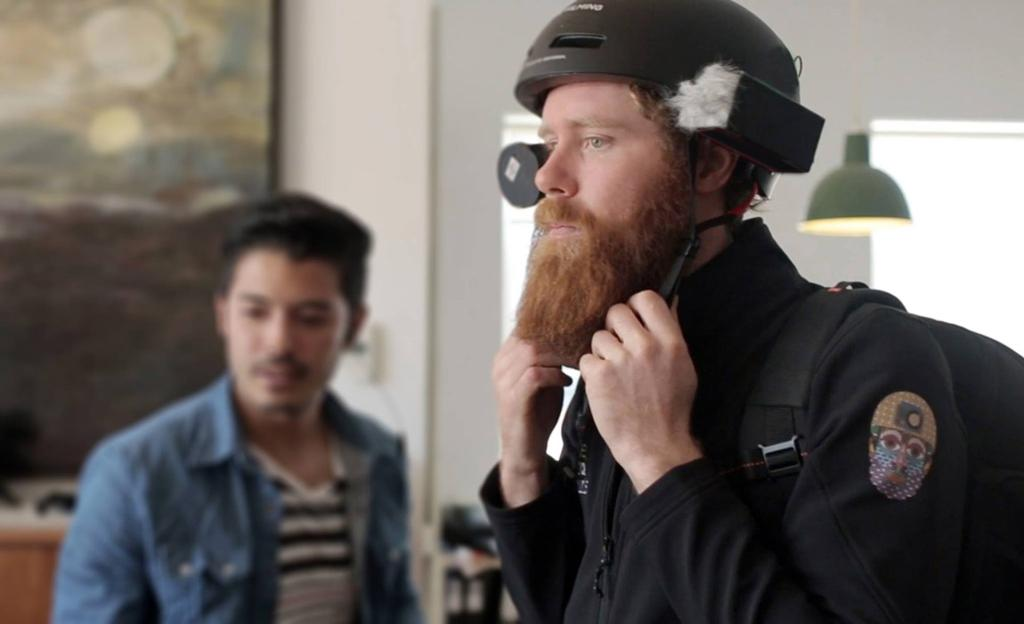face: (530, 74, 690, 270), (232, 250, 332, 414)
